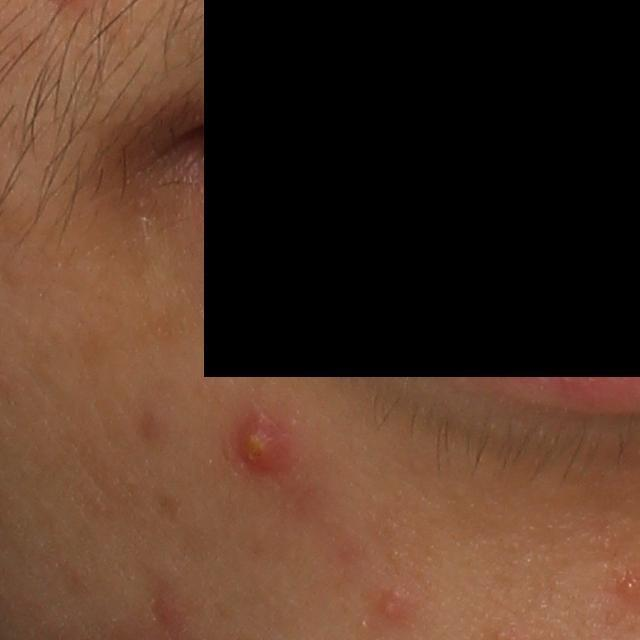papule: (377, 587, 408, 620)
pustule: (226, 403, 297, 477)
